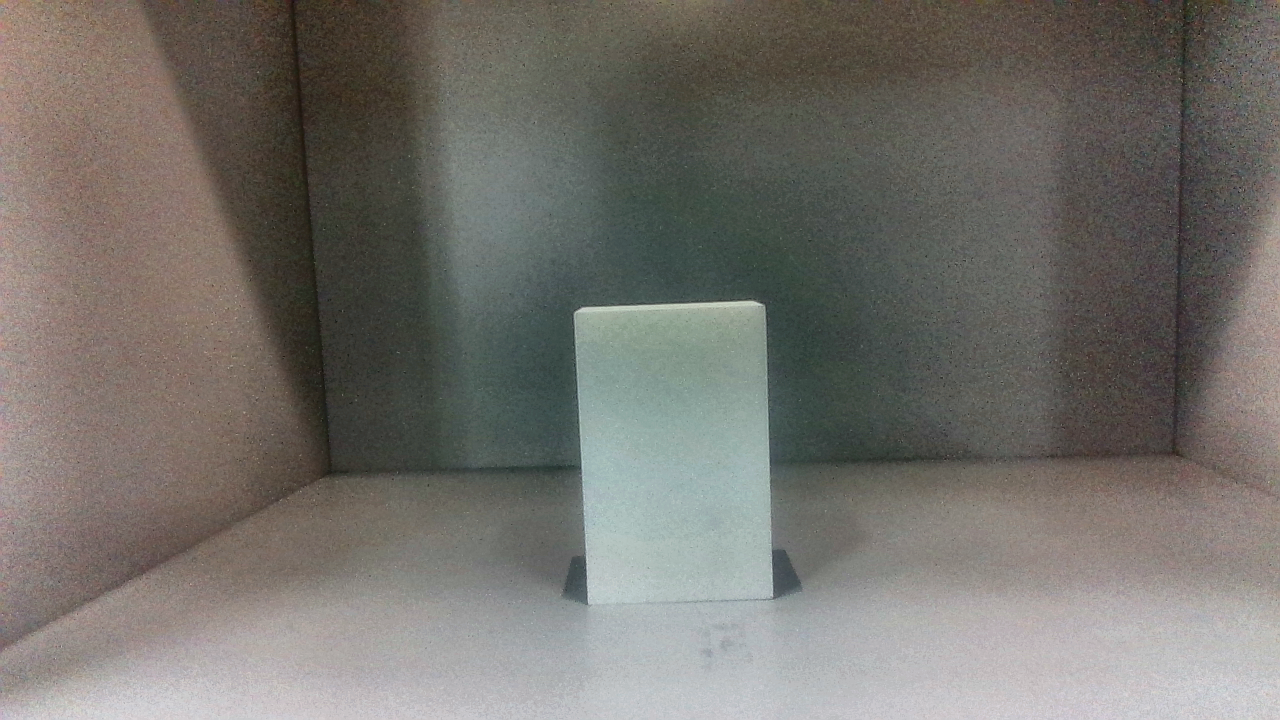Retangulo: (574, 300, 768, 602)
